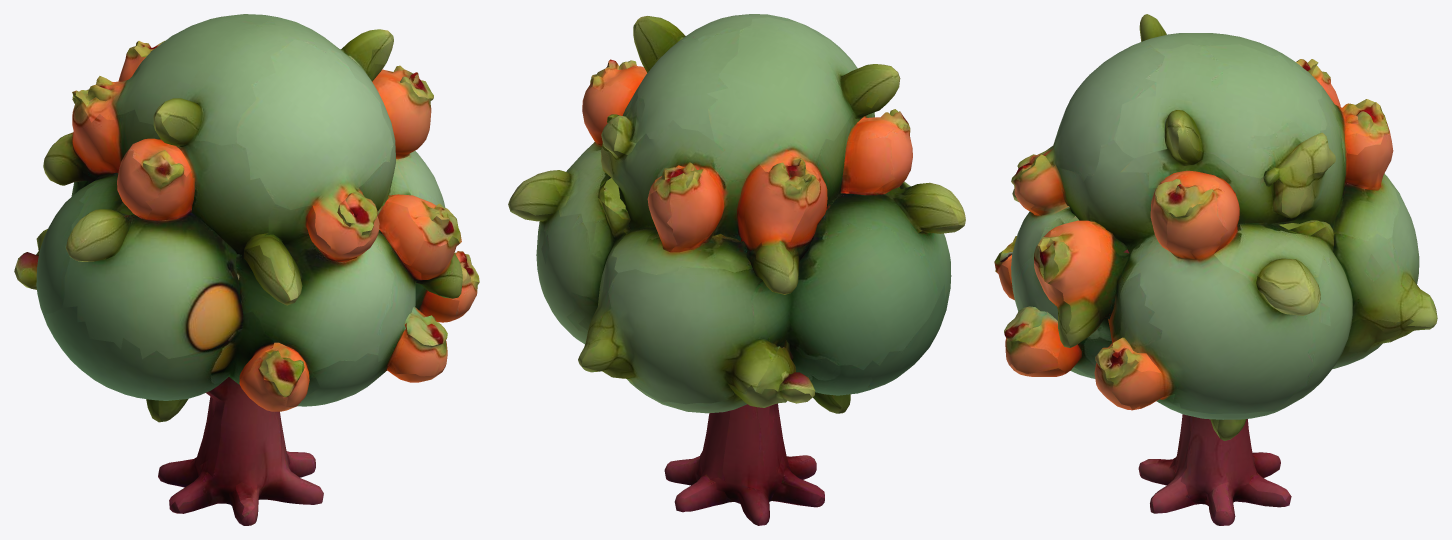
Rendered from fruit_tree_persimmon.glb.
3 renders of one model, left to right at view 1: azimuth 30°, elevation 25°; view 2: azimuth 150°, elevation 25°; view 3: azimuth 270°, elevation 25°, orthographic. The views are drawn at different scales.
Visible parts, largest first — view 1: fruit_tree_persimmon_s71; view 2: fruit_tree_persimmon_s71; view 3: fruit_tree_persimmon_s71.
Part boxes in pixels (<box>): fruit_tree_persimmon_s71: <box>14,14,479,525</box>; fruit_tree_persimmon_s71: <box>508,14,965,525</box>; fruit_tree_persimmon_s71: <box>994,14,1437,525</box>.
Size of the model in its own units: 0.8857 by 1 by 0.891.
1 material, 1 textured.
